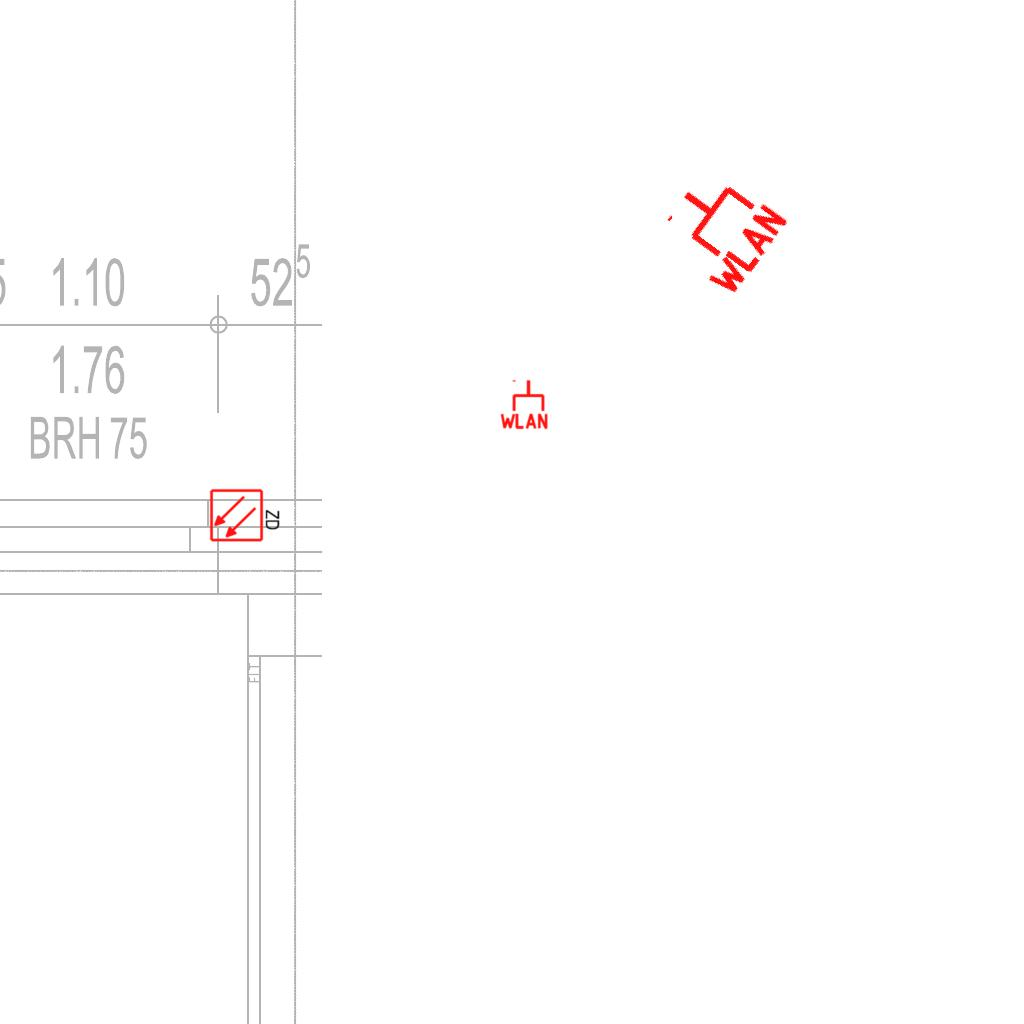WLAN: (646, 157, 793, 303), (498, 378, 550, 430)
ZD_Melder_in_Zwischendecke_mit_Revisionsoeffnung_mind_40_x_40_cm: (209, 486, 283, 543)
